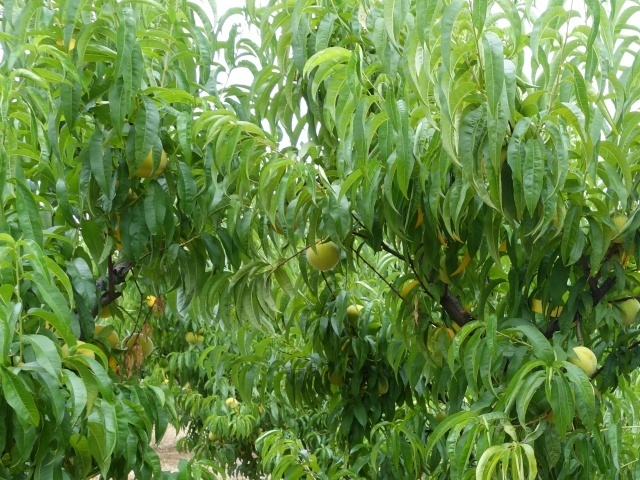peach: (302, 238, 343, 276), (130, 148, 171, 183), (568, 341, 600, 379), (59, 337, 96, 368), (606, 210, 634, 246), (120, 332, 156, 359), (616, 290, 640, 327), (342, 303, 365, 325)
